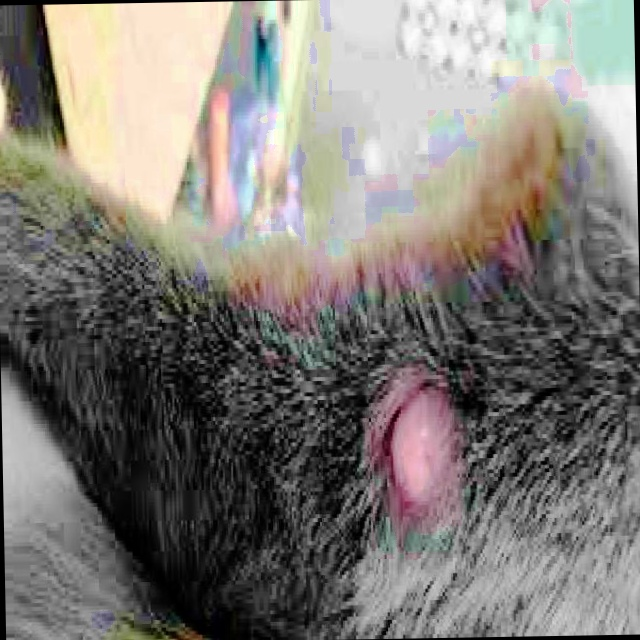lump_and_bump: (375, 374, 458, 518)
